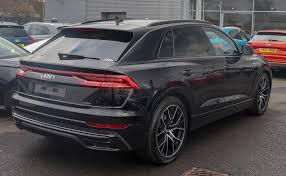Normal Automobiles: (13, 20, 270, 162), (0, 37, 27, 109), (248, 30, 285, 68), (0, 22, 34, 46), (24, 22, 67, 40), (223, 27, 249, 45), (24, 39, 48, 52)
